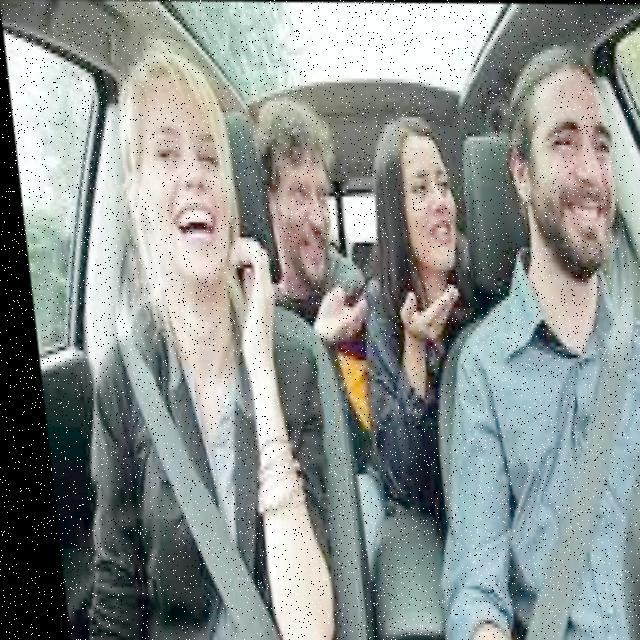seatbelt: (427, 287, 640, 640), (65, 316, 276, 640)
